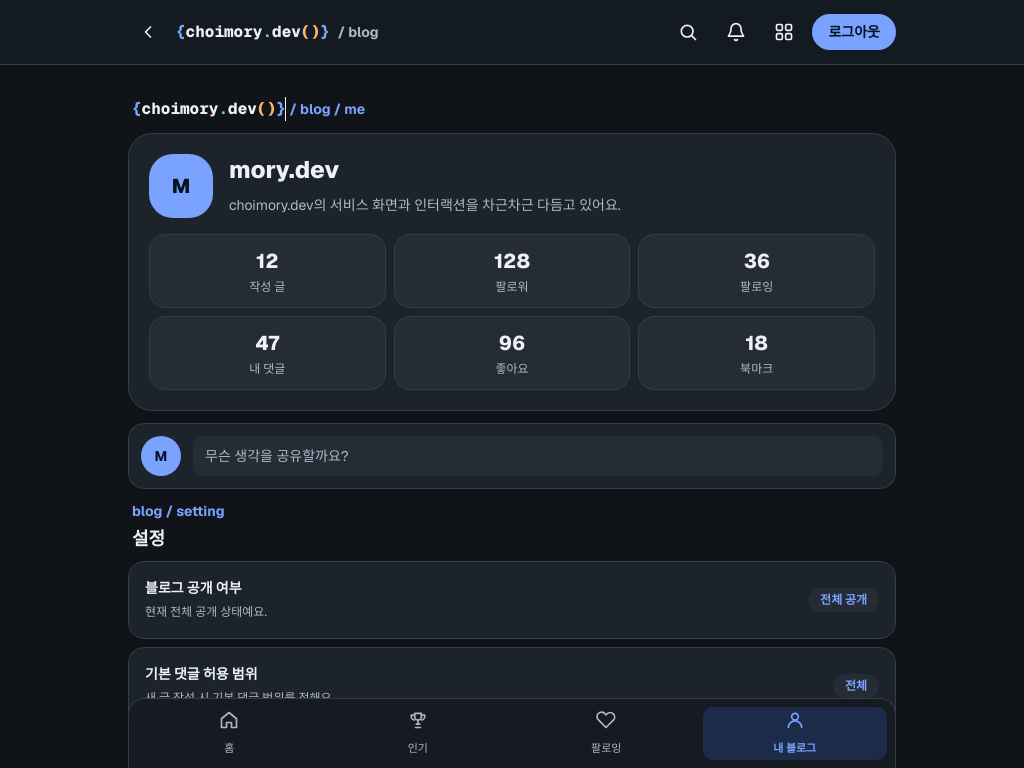
Test: BlogMeSettingsView › 설정 변경 모달을 닫으면 다른 설정 모달로 바로 바꿔 열 수 있다
Note: 공개 여부 설정 모달을 열었다가 취소로 닫고
Click the button "블로그 공개 여부 현재 전체 공개 상태예요. 전체 공개": (193, 588) [128,561,896,639]
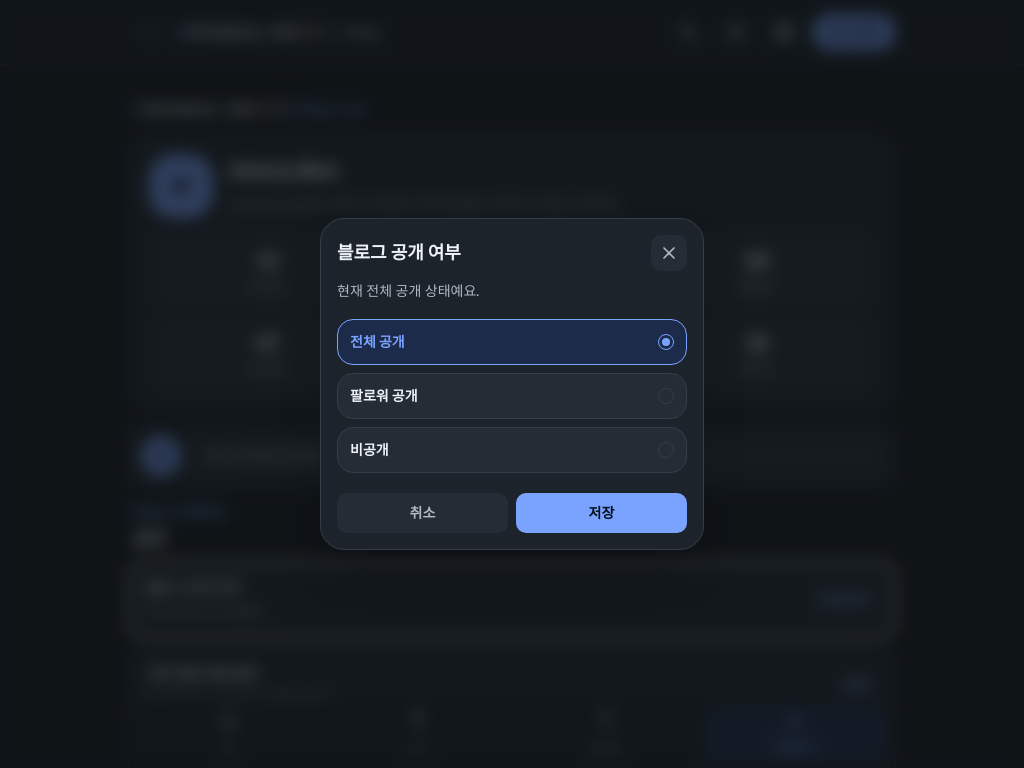
Click the button "취소": (422, 513) [337,493,508,533]
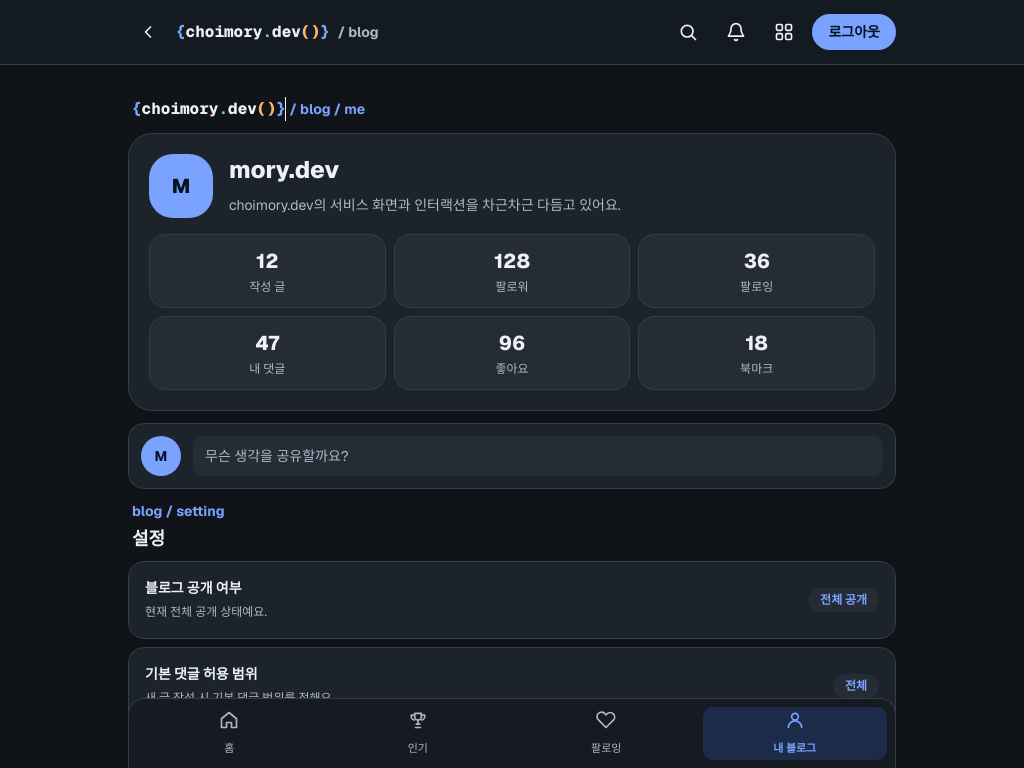
Note: 댓글 허용 범위 설정 모달을 바로 연다
Click the button "기본 댓글 허용 범위 새 글 작성 시 기본 댓글 범위를 정해요. 전체": (201, 674) [128,647,896,725]
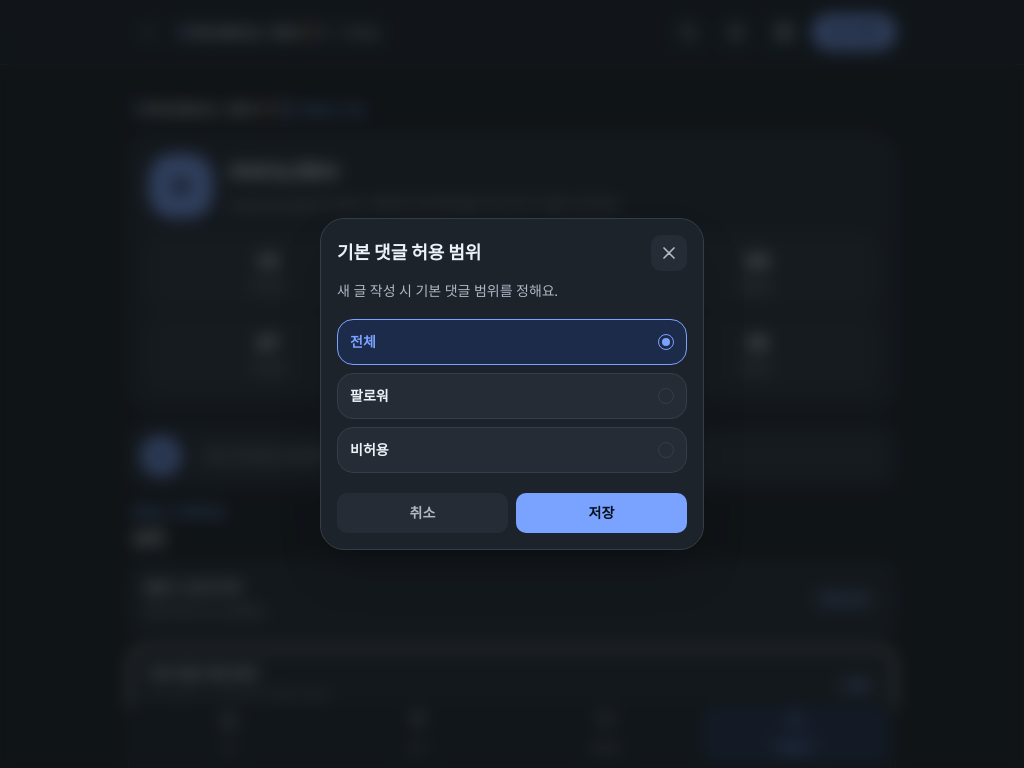
Expected: the dialog "기본 댓글 허용 범위" is shown, [320,218,704,550]
